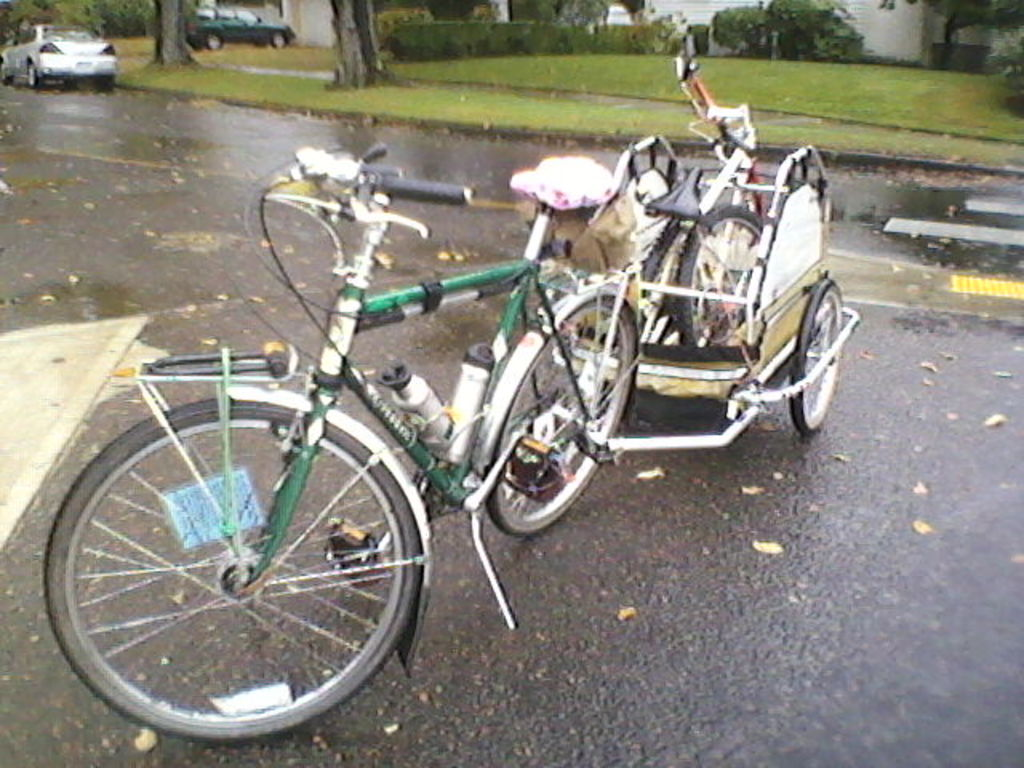Bike: (55, 130, 629, 737)
